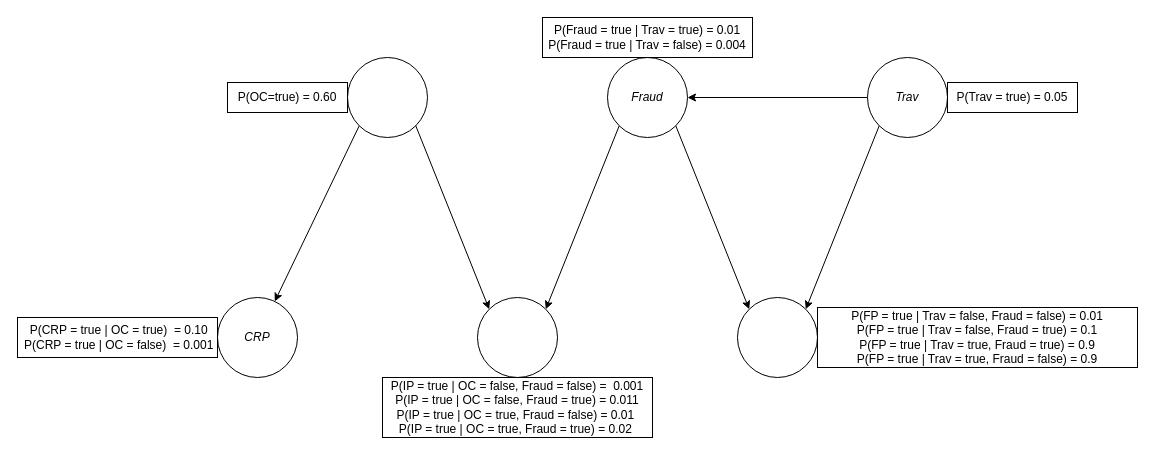
Image size: 1155x455. Some labels were removed from this diagram. Each missing label, with the centre of its shape:
FP: the point at 777,337
IP: the point at 517,337
OC: the point at 387,97
